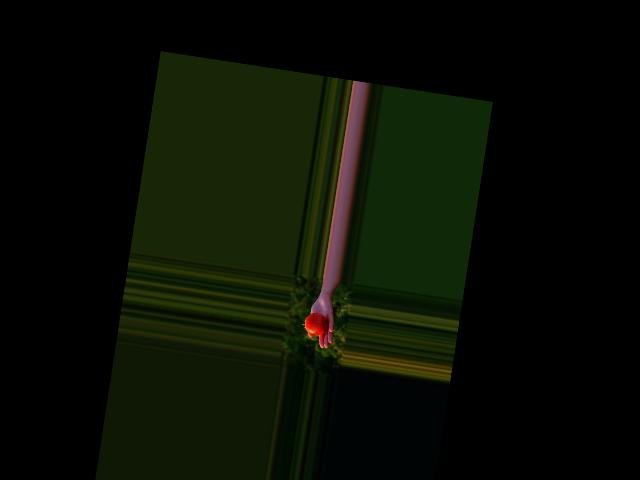tomato: (303, 312, 330, 336)
